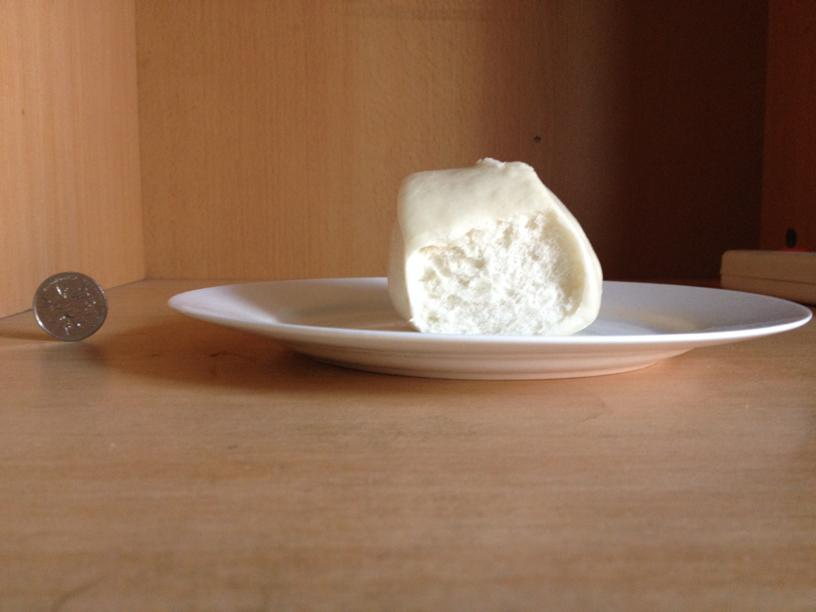bun: (386, 156, 601, 336)
coin: (33, 270, 107, 340)
